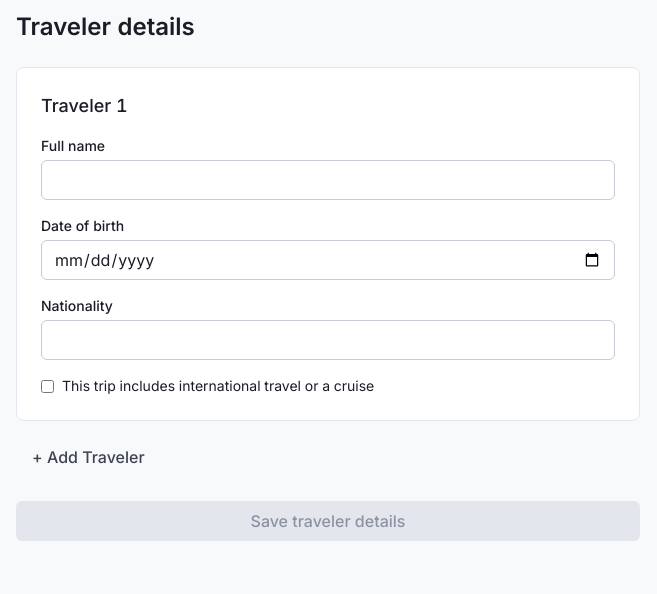
Test case: TravelerDetailsScreen (SCR-14) › shows an inline error when saving fails
In the field labelled "Full name": (328, 180) top-left (41, 160), bottom-right (615, 200), type "Jane Traveler"
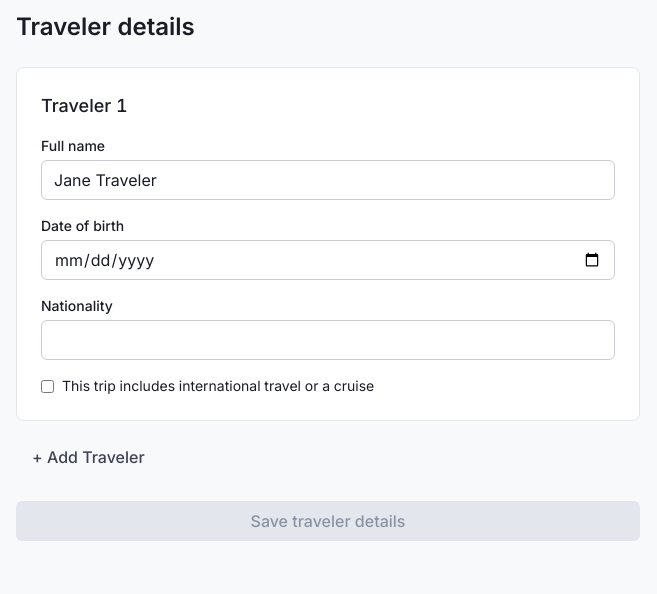
In the date field labelled "Date of birth": (328, 260) top-left (41, 240), bottom-right (615, 280), type "1990-05-01"
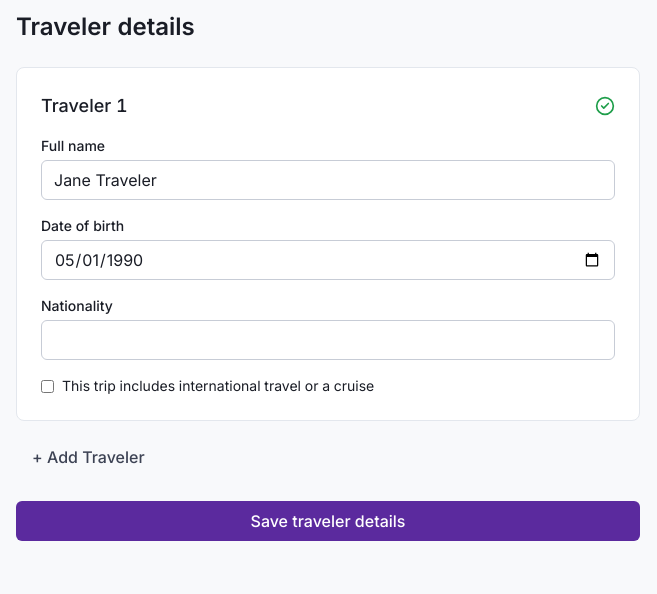
Click the button "Save traveler details": (328, 521) top-left (16, 501), bottom-right (640, 541)
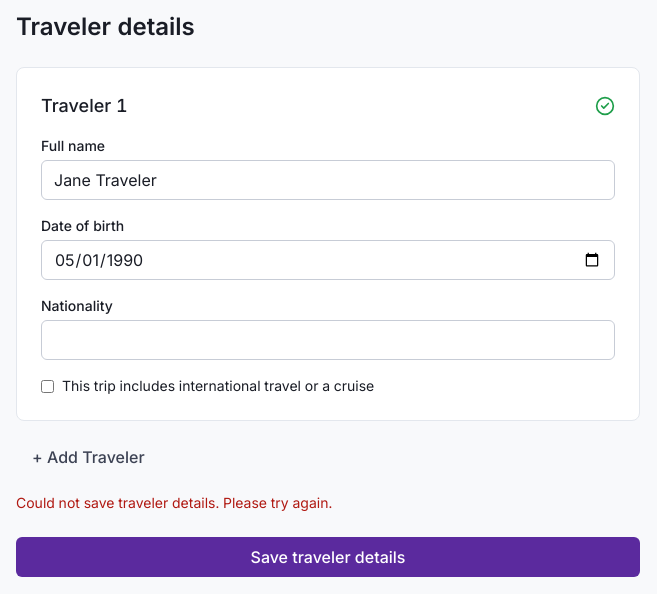
expect the message shows "Could not save traveler details": met, box top-left (16, 494), bottom-right (332, 511)
